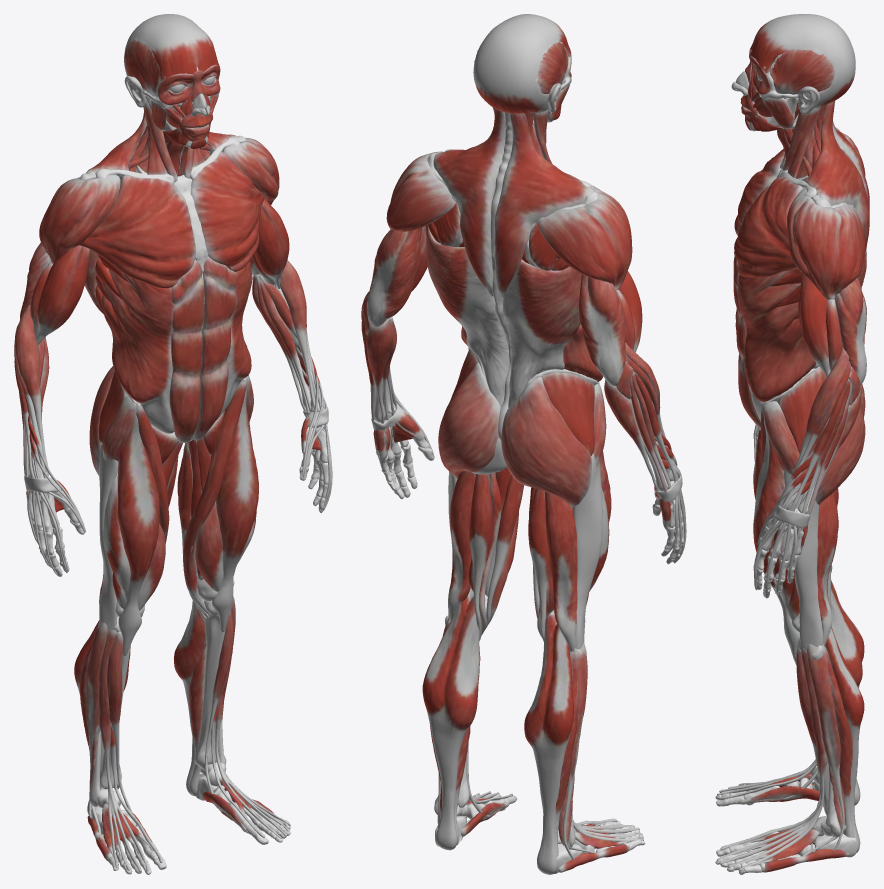
The model's file is candidate-fullbody-ecorche-phase21-256-webp78-meshopt.glb.
3 views of the same model, side by side, from view 1: azimuth 30°, elevation 25°; view 2: azimuth 150°, elevation 25°; view 3: azimuth 270°, elevation 25° (orthographic). The views are drawn at different scales.
Visible parts, largest first — view 1: Object_23, Object_17, Object_29, Object_25, Object_31, Object_15, Object_33, Object_5, Object_7, Object_11, Object_27, Object_3 (+3 smaller); view 2: Object_13, Object_7, Object_3, Object_9, Object_5, Object_33, Object_15, Object_31, Object_29, Object_11, Object_25, Object_27 (+4 smaller); view 3: Object_23, Object_25, Object_15, Object_29, Object_31, Object_5, Object_7, Object_3, Object_33, Object_13, Object_11, Object_17 (+3 smaller).
Part boxes in pixels (<box>): Object_23: <box>78,152,264,442</box>; Object_17: <box>103,377,258,656</box>; Object_29: <box>26,41,328,874</box>; Object_25: <box>86,595,290,872</box>; Object_31: <box>14,260,332,575</box>; Object_15: <box>124,14,220,148</box>; Object_33: <box>20,199,289,344</box>; Object_5: <box>39,137,279,263</box>; Object_7: <box>74,572,206,814</box>; Object_11: <box>24,76,328,631</box>; Object_27: <box>151,410,224,615</box>; Object_3: <box>89,366,253,476</box>; Object_13: <box>425,109,590,407</box>; Object_7: <box>422,595,578,874</box>; Object_3: <box>438,349,606,507</box>; Object_9: <box>448,471,577,651</box>; Object_5: <box>386,151,632,289</box>; Object_33: <box>367,226,642,385</box>; Object_15: <box>473,14,571,122</box>; Object_31: <box>361,291,686,562</box>; Object_29: <box>371,41,684,873</box>; Object_11: <box>371,83,682,649</box>; Object_25: <box>437,617,643,872</box>; Object_27: <box>485,467,539,629</box>; Object_23: <box>733,148,816,430</box>; Object_25: <box>717,643,849,872</box>; Object_15: <box>740,14,855,131</box>; Object_29: <box>715,53,857,874</box>; Object_31: <box>753,347,861,597</box>; Object_5: <box>787,127,865,299</box>; Object_7: <box>824,580,864,852</box>; Object_3: <box>763,368,865,504</box>; Object_33: <box>798,250,866,385</box>; Object_13: <box>770,101,869,368</box>; Object_11: <box>731,71,846,650</box>; Object_17: <box>753,402,799,665</box>.
Bounding box in the file's own units: 26.15 × 68.16 × 11.71.
Materials: 16 (14 with a texture image).
